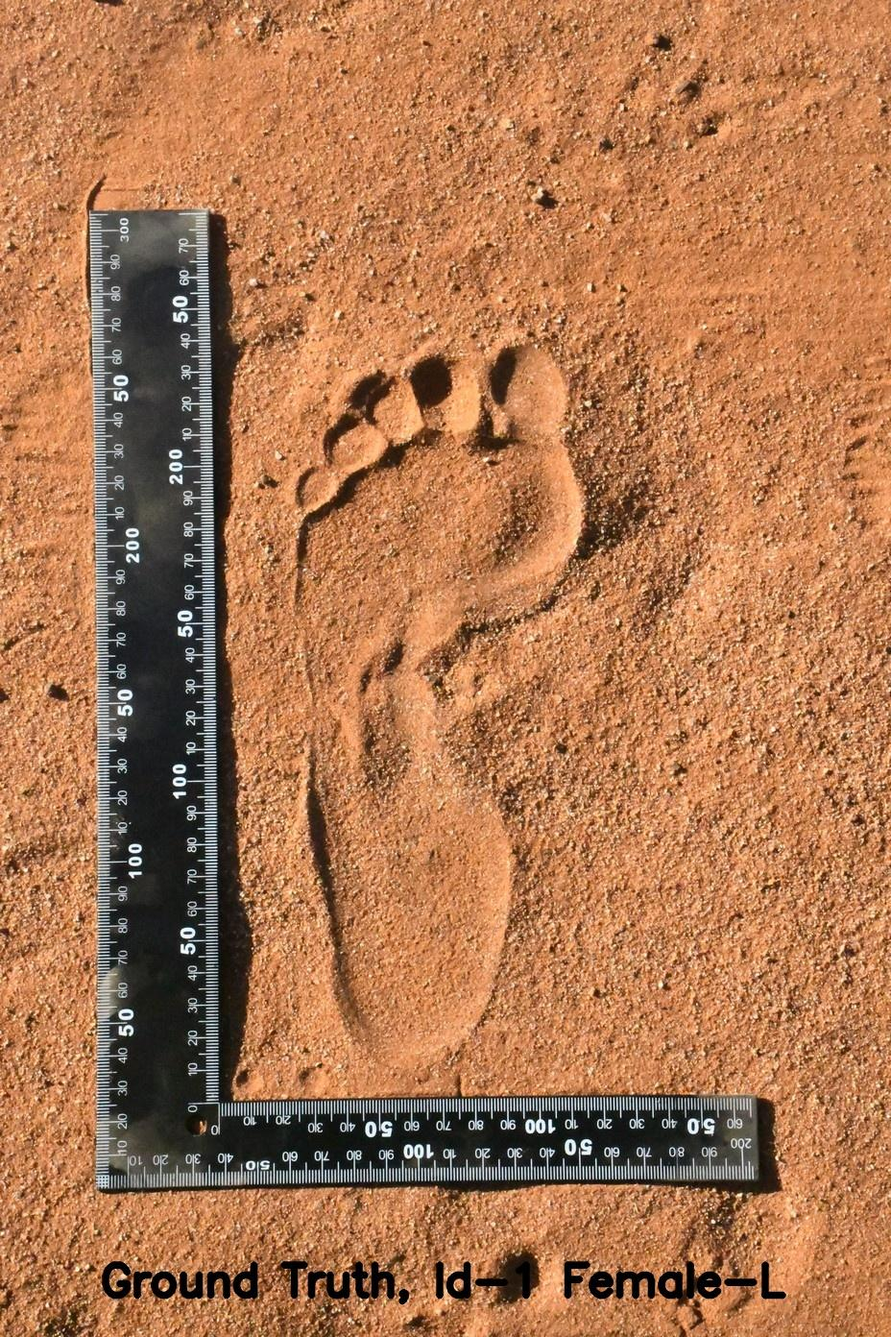human_foot_print: (243, 273, 631, 1079)
